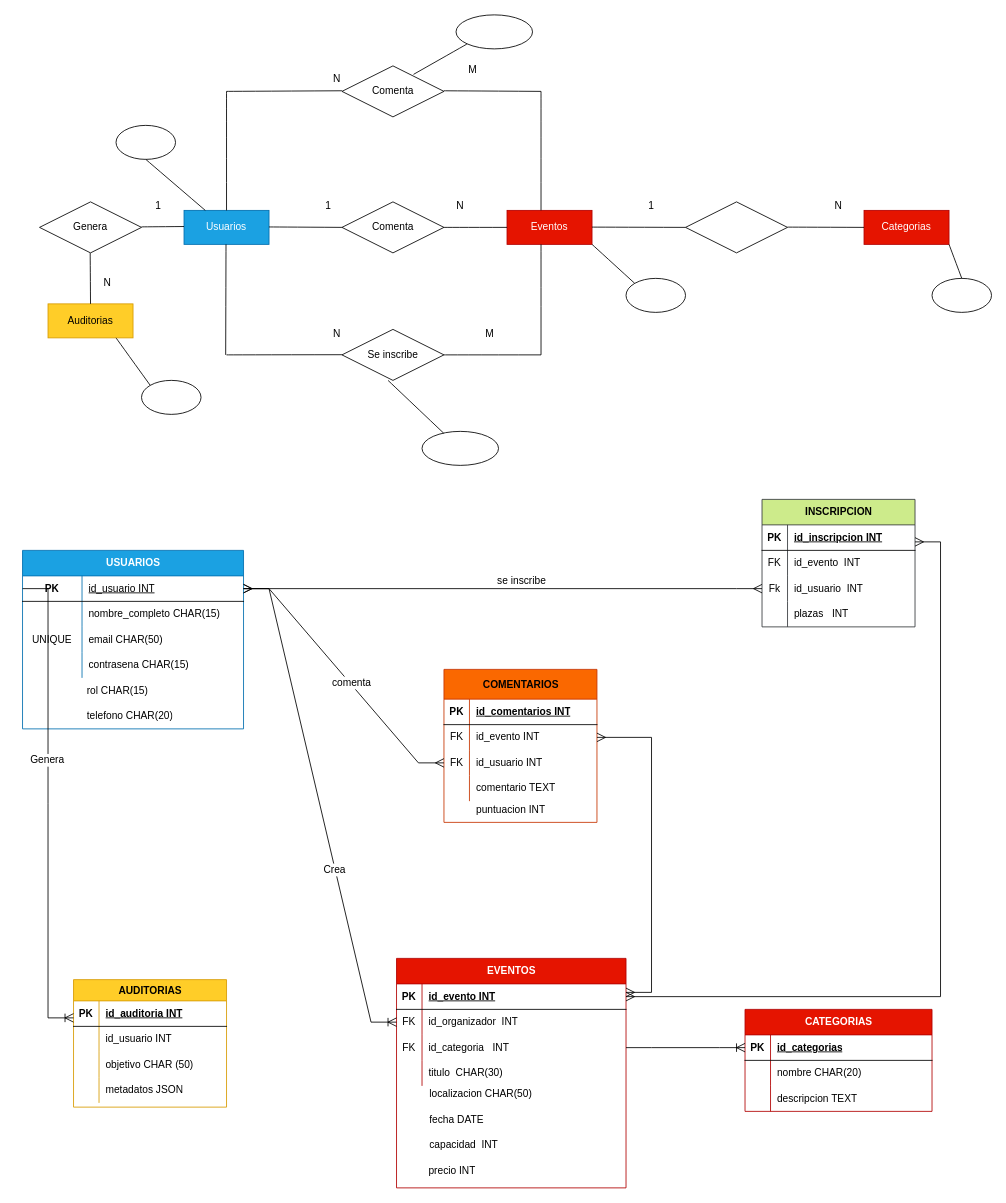
The diagram is 1006 pixels wide and 1203 high, and some of its shapes have lost their labels. The shapes that lost their labels are listed below. From the top down, each one's centre as x and y in pixels, then its label:
the point at 494,31: id_comentario
the point at 145,142: id_usuario
the point at 736,227: tiene
the point at 655,295: id_evento
the point at 961,295: id_categoria
the point at 171,397: id_auditoria
the point at 460,448: id_inscripcion
